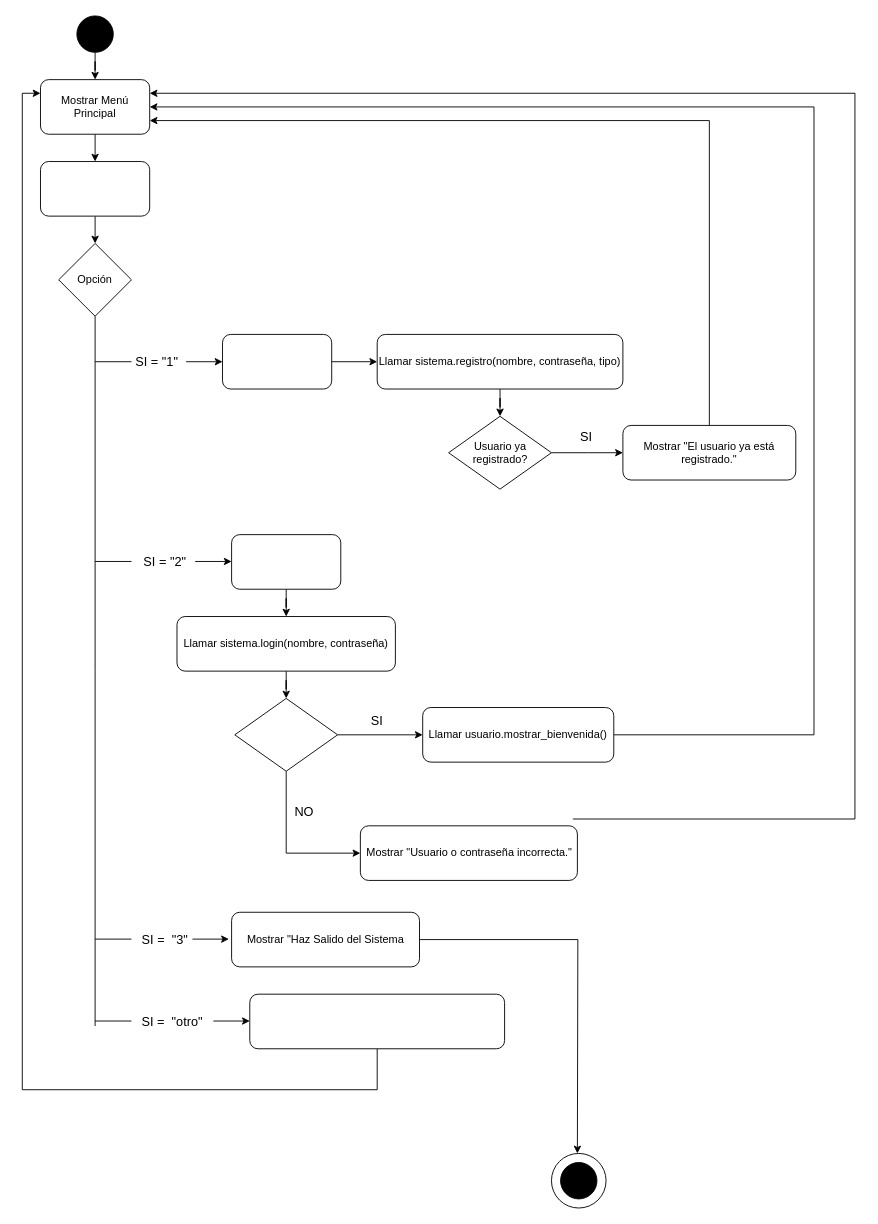
The diagram is 878 pixels wide and 1224 high, and some of its shapes have lost their labels. Each missing label, with the centre of its shape:
Credenciales Correctas?: point (286, 734)
Mostrar "Opción no válida. Intenta nuevamente".: point (377, 1021)
Obtener Opción de Usuario: point (95, 188)
Solicitar Datos de Login: point (286, 561)
Solicitar Datos de Registro: point (277, 361)
